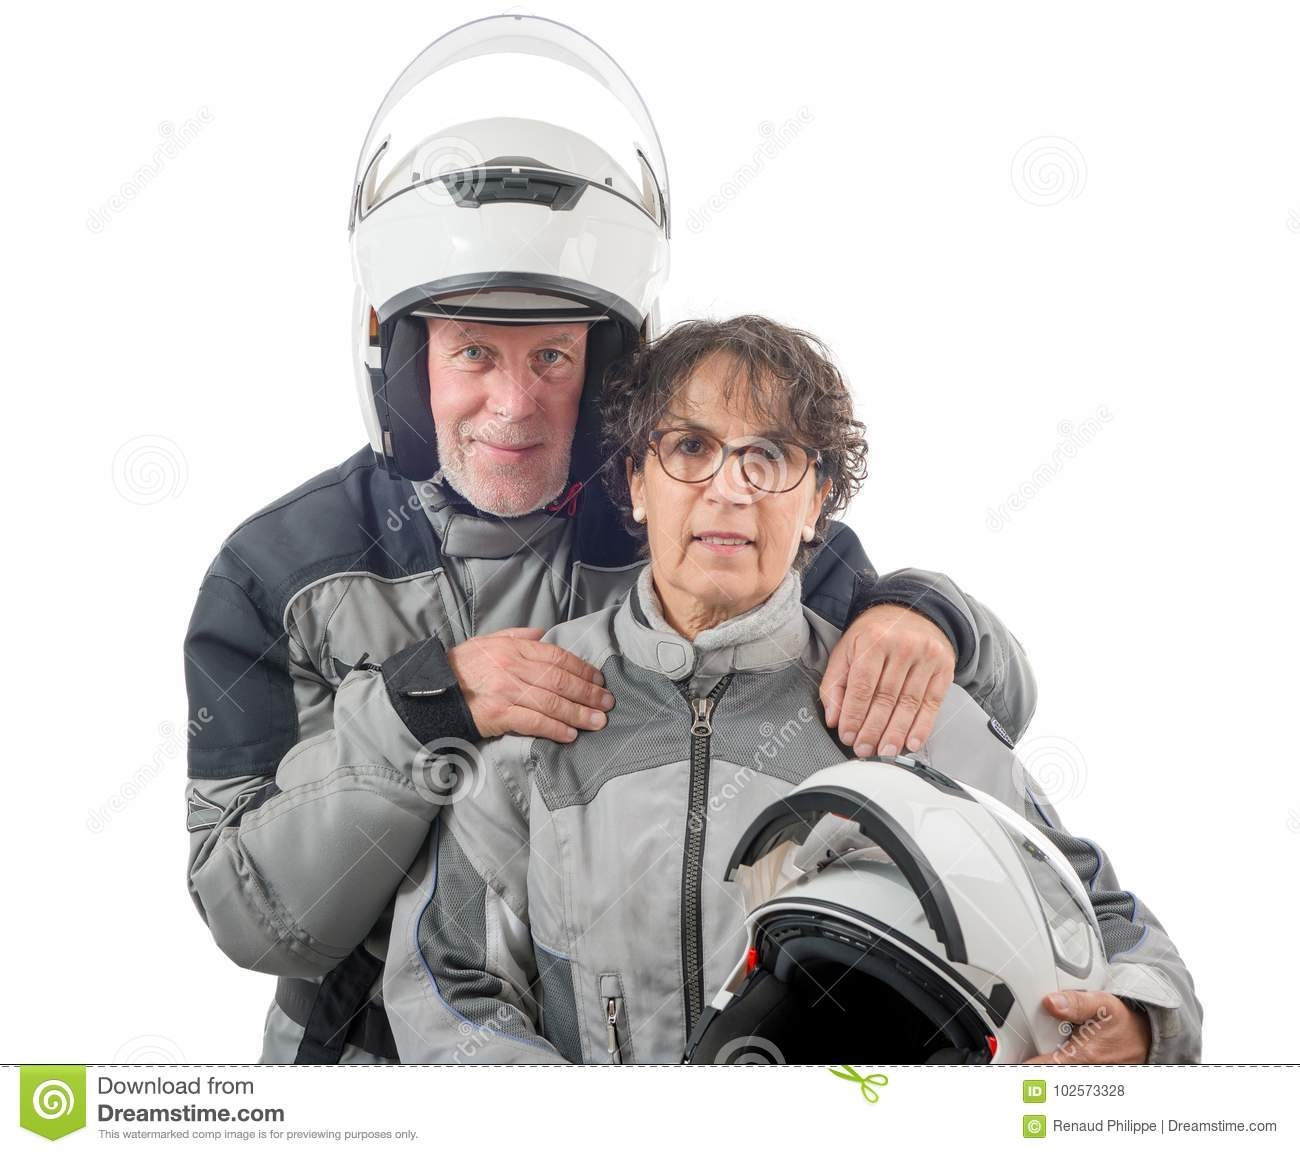helmet: (348, 144, 687, 410)
